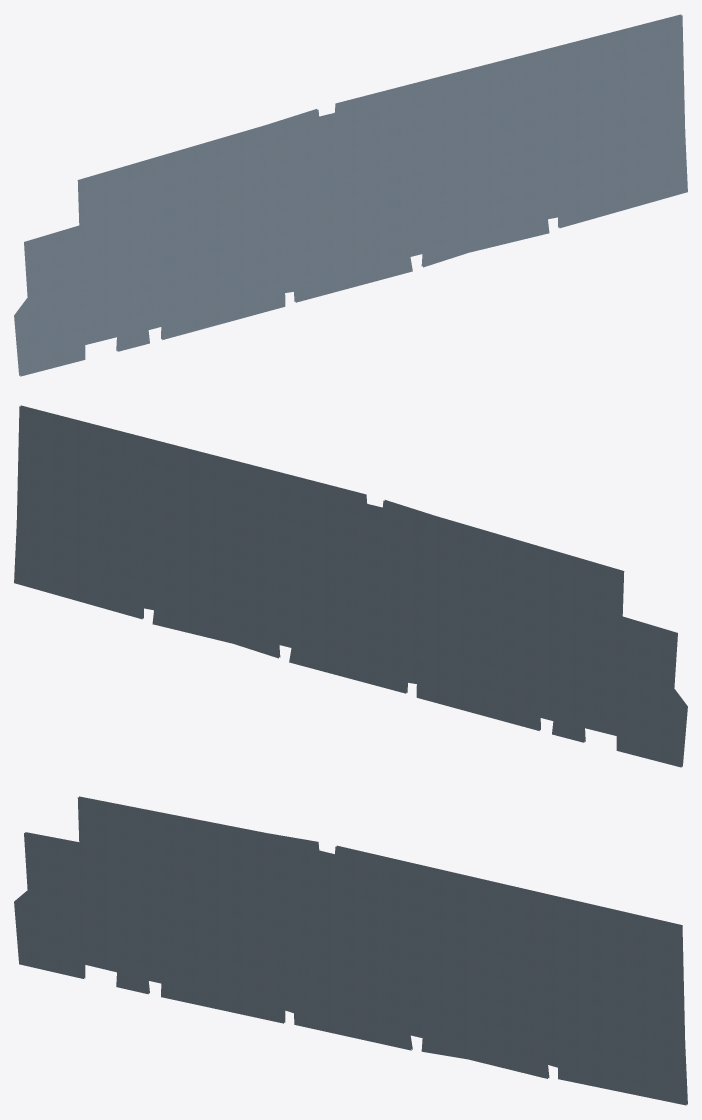
File: floor_23.obj
3 renders of one model, top to bottom at view 1: azimuth 30°, elevation 25°; view 2: azimuth 150°, elevation 25°; view 3: azimuth 330°, elevation 25°, orthographic.
Visible parts, largest first — view 1: floor_23; view 2: floor_23; view 3: floor_23.
Boxes of the visible parts, left/top/right/bottom form: floor_23: left=14, top=14, right=687, bottom=376; floor_23: left=14, top=405, right=687, bottom=767; floor_23: left=14, top=796, right=687, bottom=1105.
Bounding box in the file's own units: 29.89 × 8.48 × 0.1.
Materials: 1 (1 with a texture image).
